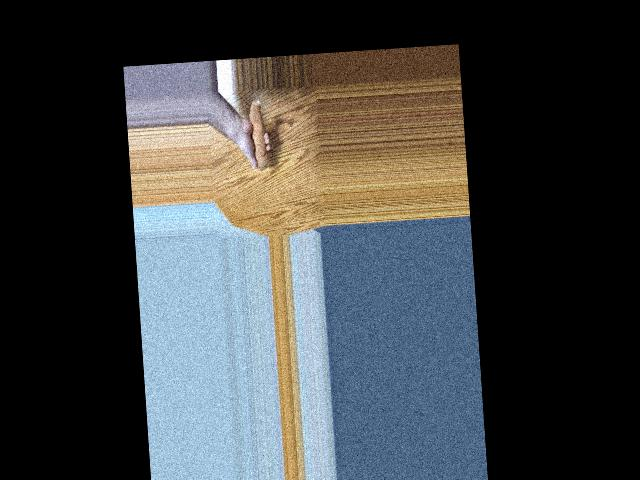sweet_potato: (243, 98, 271, 176)
